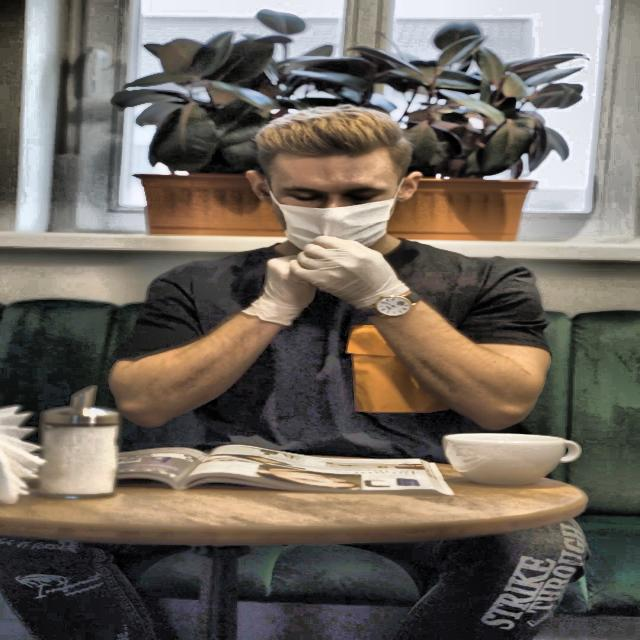gloved: (292, 231, 432, 312), (239, 250, 328, 327)
